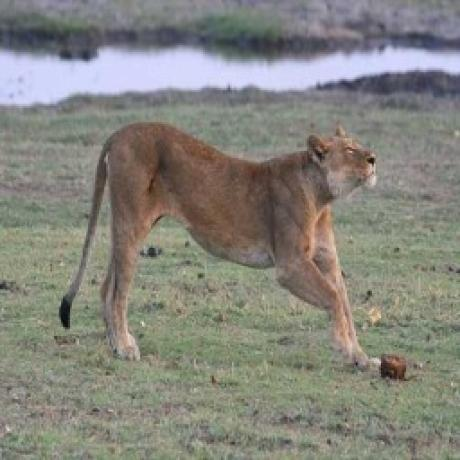Lion: (60, 123, 384, 374)
